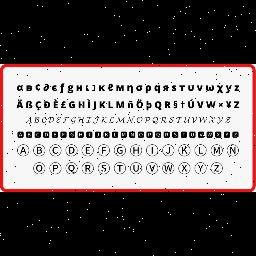g: (66, 82, 76, 96)
h: (76, 84, 84, 94)
i: (87, 102, 91, 110)
k: (97, 82, 107, 94)
